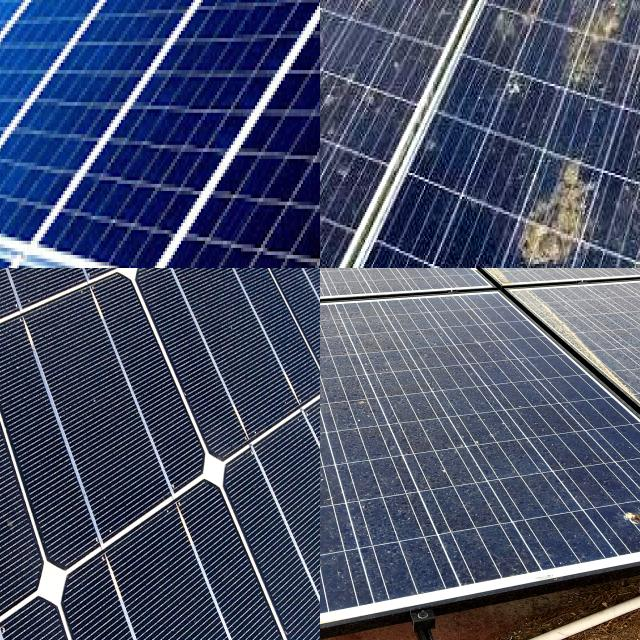bird: (513, 130, 595, 268), (562, 0, 627, 96), (491, 5, 526, 59), (498, 62, 532, 111), (603, 495, 640, 538), (320, 160, 332, 207)
crack: (0, 268, 215, 605), (74, 0, 320, 268), (20, 467, 320, 640), (124, 268, 320, 506), (204, 344, 320, 640)
dust: (322, 446, 560, 560), (320, 328, 548, 417), (320, 268, 396, 316), (320, 335, 332, 630)
